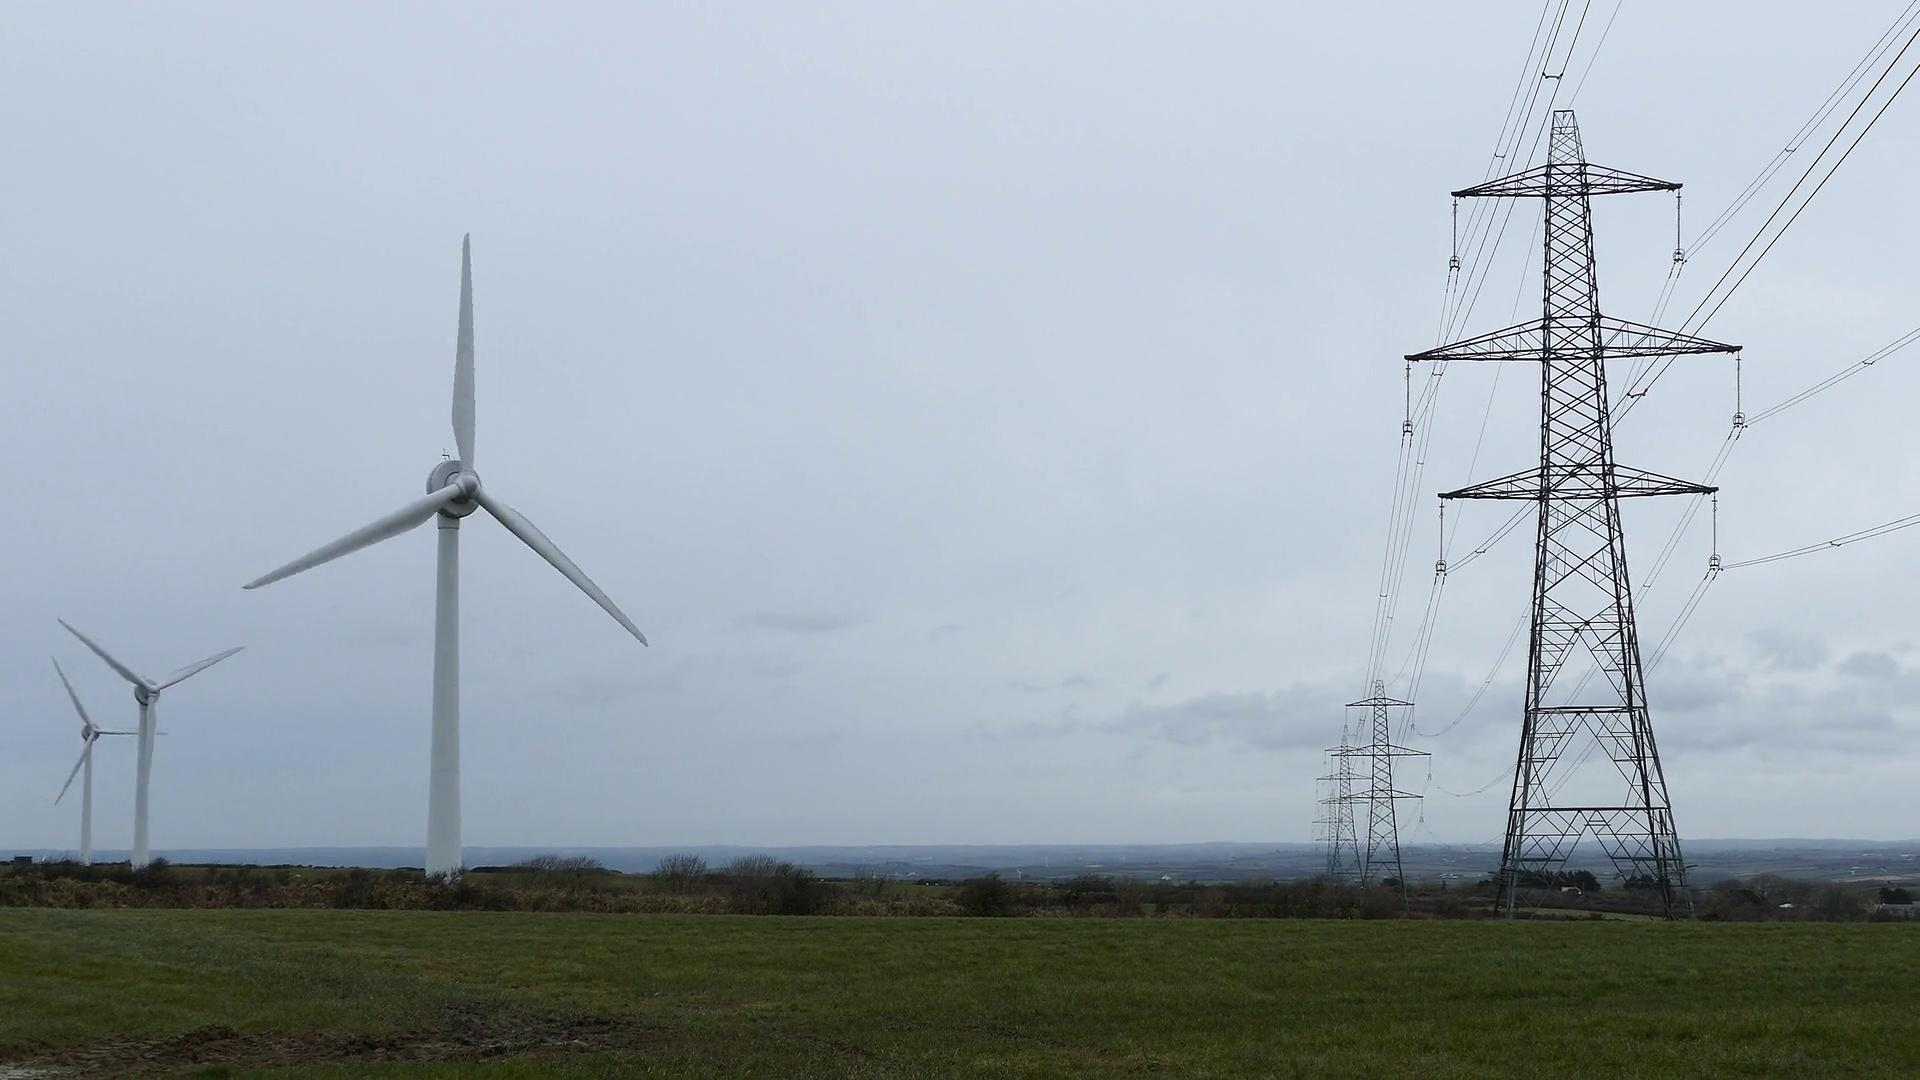cable tower: (1400, 105, 1747, 920), (1342, 676, 1433, 909), (1324, 733, 1367, 885), (1309, 793, 1357, 877)
turbine: (218, 175, 740, 949), (63, 579, 293, 918), (37, 633, 193, 887)
